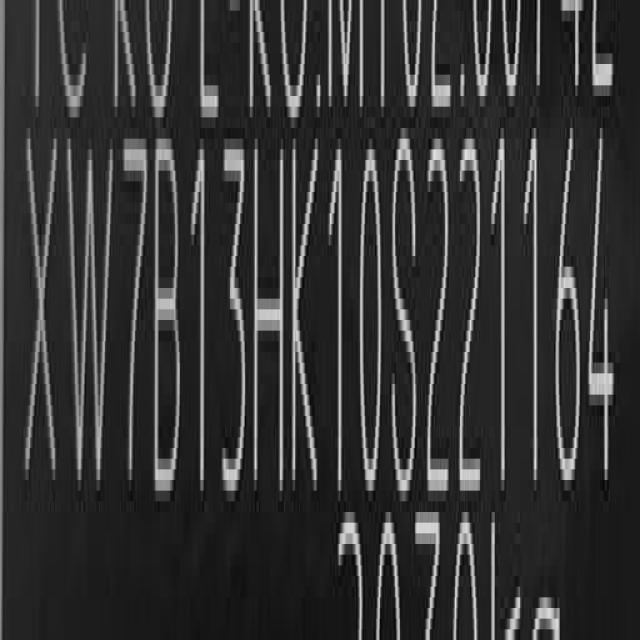0: (356, 132, 385, 498)
1: (489, 107, 511, 510), (524, 121, 546, 505), (192, 132, 210, 512), (329, 126, 347, 505)
2: (458, 128, 486, 512), (424, 123, 452, 506)
3: (218, 133, 248, 510)
4: (588, 118, 618, 506)
6: (554, 121, 586, 502)
7: (121, 126, 148, 510)
B: (153, 135, 184, 512)
H: (253, 132, 286, 508)
K: (293, 129, 324, 507)
S: (388, 114, 420, 502)
W: (68, 130, 116, 508)
X: (23, 127, 60, 508)
